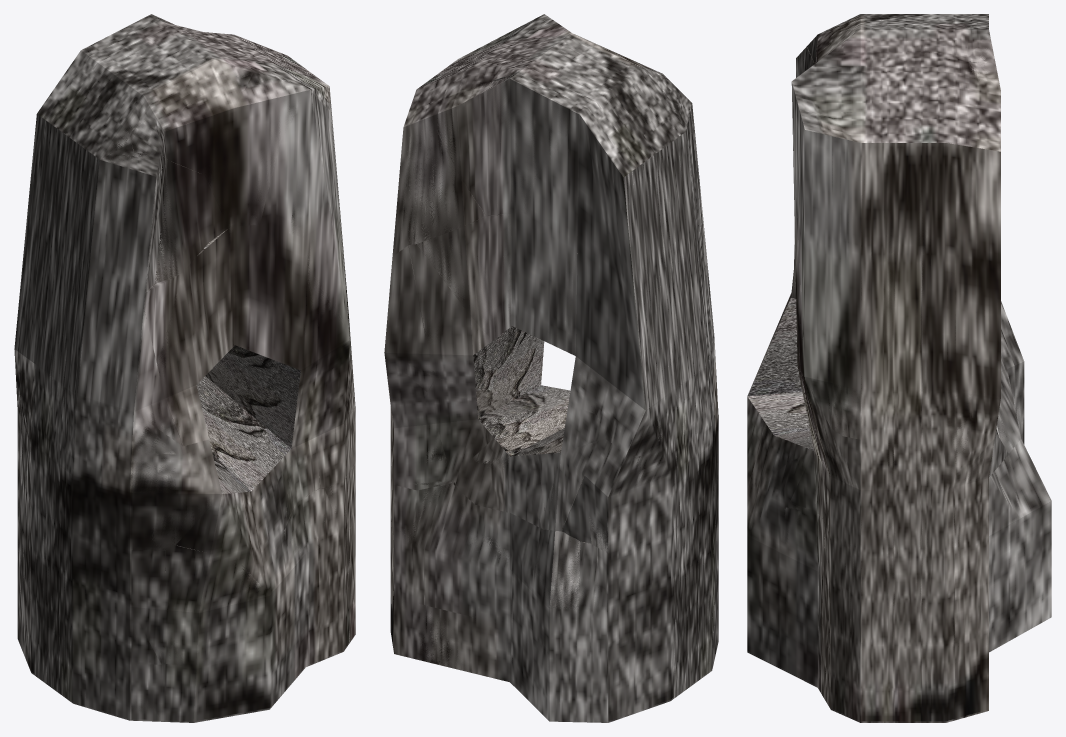
The model's file is Boss Rock.fbx.
3 renders of one model, left to right at view 1: azimuth 30°, elevation 25°; view 2: azimuth 150°, elevation 25°; view 3: azimuth 270°, elevation 25°, orthographic. The views are drawn at different scales.
Visible parts, largest first — view 1: Rock, Rock_cell.045, Rock_cell.011, Rock_cell.029, Rock_cell.093, Rock_cell.056, Rock_cell.086, Rock_cell.034, Rock_cell.076, Rock_cell, Rock_cell.027, Rock_cell.046 (+28 smaller); view 2: Rock, Rock_cell.088, Rock_cell.065, Rock_cell.035, Rock_cell.004, Rock_cell.083, Rock_cell.059, Rock_cell.068, Rock_cell.055, Rock_cell.092, Rock_cell.050, Rock_cell.066 (+30 smaller); view 3: Rock, Rock_cell.053, Rock_cell.016, Rock_cell.044, Rock_cell.023, Rock_cell.035, Rock_cell.061, Rock_cell.036, Rock_cell.054, Rock_cell.069, Rock_cell.077, Rock_cell.066 (+29 smaller).
Part boxes in pixels (box(x1,y1,x2,y2)): Rock: box(14, 14, 355, 721); Rock_cell.045: box(191, 73, 280, 227); Rock_cell.011: box(123, 153, 227, 292); Rock_cell.029: box(137, 273, 215, 446); Rock_cell.093: box(183, 227, 313, 364); Rock_cell.056: box(101, 444, 175, 549); Rock_cell.086: box(213, 368, 319, 519); Rock_cell.034: box(162, 660, 231, 722); Rock_cell.076: box(109, 289, 182, 454); Rock_cell: box(284, 488, 324, 630); Rock_cell.027: box(239, 285, 324, 408); Rock_cell.046: box(231, 533, 287, 658); Rock: box(385, 14, 718, 722); Rock_cell.088: box(417, 214, 577, 339); Rock_cell.065: box(430, 82, 530, 215); Rock_cell.035: box(397, 97, 485, 242); Rock_cell.004: box(408, 244, 510, 386); Rock_cell.083: box(579, 541, 639, 666); Rock_cell.059: box(384, 245, 435, 392); Rock_cell.068: box(535, 404, 604, 530); Rock_cell.055: box(562, 454, 641, 550); Rock_cell.092: box(452, 429, 564, 529); Rock_cell.050: box(475, 504, 543, 626); Rock_cell.066: box(529, 529, 580, 642); Rock: box(747, 14, 1051, 722); Rock_cell.053: box(925, 266, 1000, 439); Rock_cell.016: box(831, 262, 881, 439); Rock_cell.044: box(882, 266, 924, 439); Rock_cell.023: box(828, 112, 881, 266); Rock_cell.035: box(941, 115, 1000, 273); Rock_cell.061: box(882, 143, 924, 266); Rock_cell.036: box(799, 253, 837, 427); Rock_cell.054: box(925, 542, 967, 664); Rock_cell.069: box(882, 440, 924, 547); Rock_cell.077: box(925, 113, 972, 266); Rock_cell.066: box(1008, 439, 1051, 566).
Size of the model in its own units: 195 by 401 by 178.
